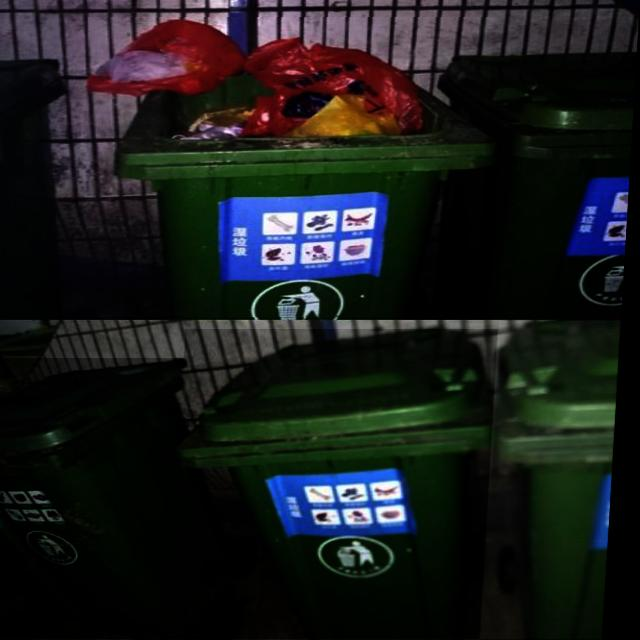garbage_bin: (175, 329, 502, 639), (0, 358, 239, 639), (429, 52, 636, 318), (488, 321, 624, 639)
overflow: (75, 17, 495, 317)
